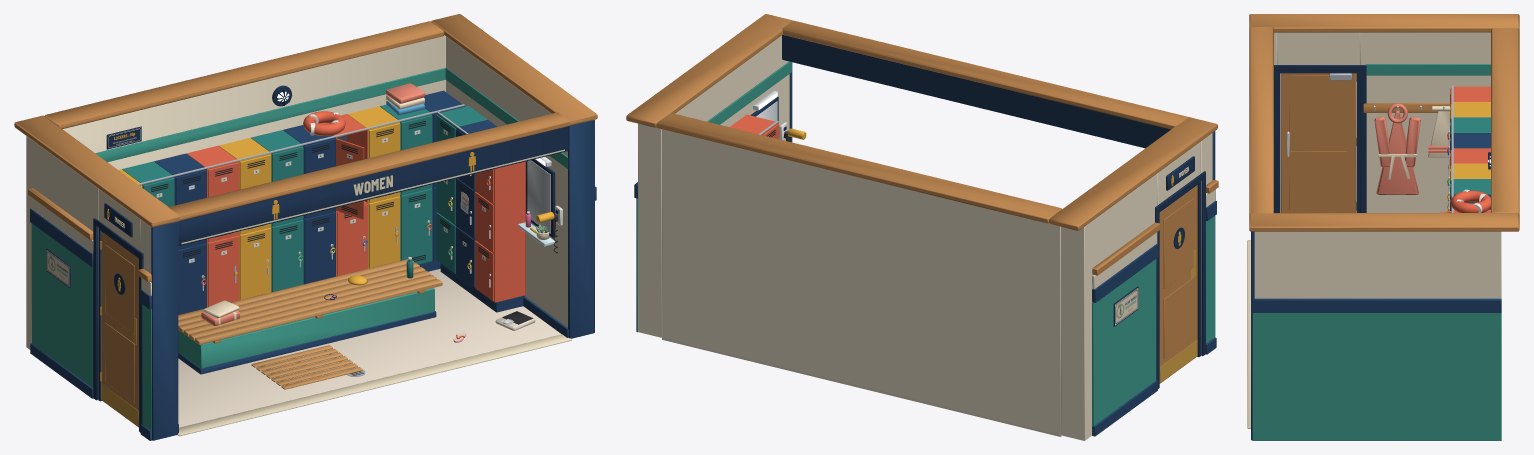
The model's file is locker_bay_women.glb.
3 renders of one model, left to right at view 1: azimuth 30°, elevation 25°; view 2: azimuth 150°, elevation 25°; view 3: azimuth 270°, elevation 25°, orthographic. The views are drawn at different scales.
Parts seen in each view (by area): view 1: LockerBayWomenBody, Door; view 2: LockerBayWomenBody, Door; view 3: LockerBayWomenBody, Door.
Part boxes in pixels (<box>): LockerBayWomenBody: <box>14,14,597,440</box>; Door: <box>100,231,138,427</box>; LockerBayWomenBody: <box>626,14,1218,440</box>; Door: <box>1159,185,1197,383</box>; LockerBayWomenBody: <box>1247,14,1519,440</box>; Door: <box>1280,73,1356,212</box>.
Bounding box in the file's own units: 5.72 × 2.69 × 3.06.
Materials: 62 (4 with a texture image).
